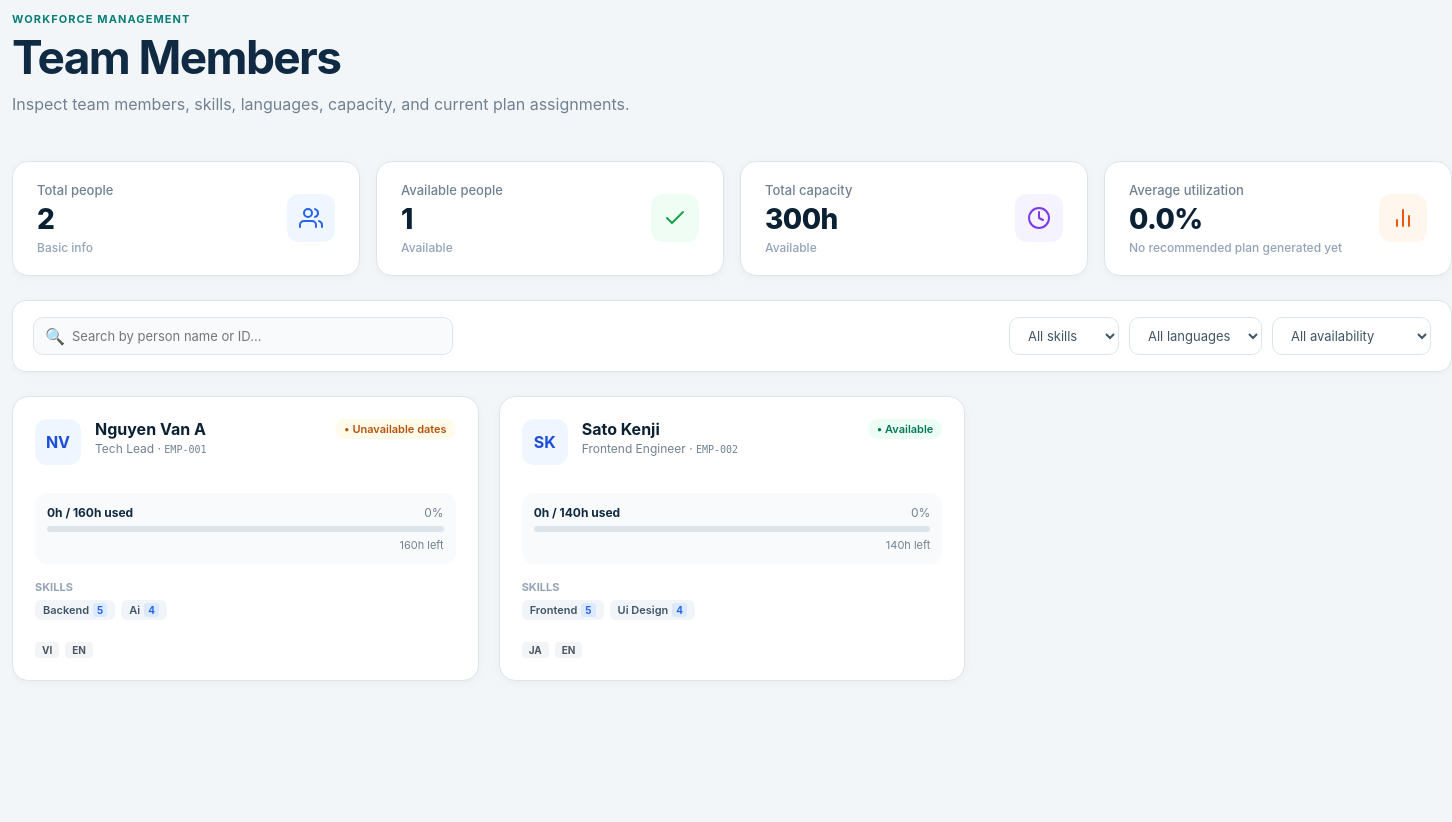
it: EmployeesPage › filters employees by search term
The image size is (1452, 822).
Step 1. Type "Kenji" into the field → [243, 336], box [33,317,453,355]
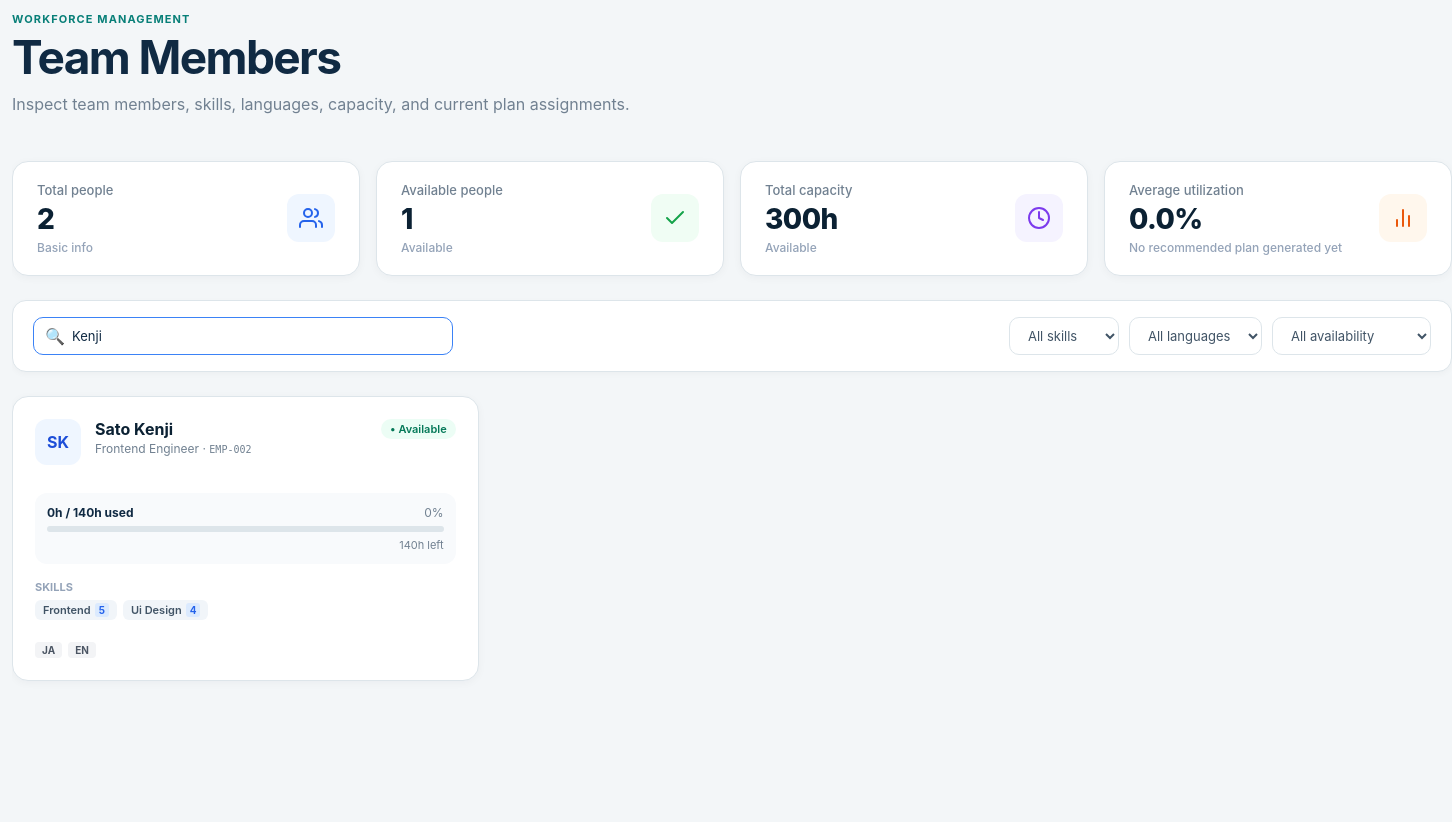
Expected: the heading "Sato Kenji" is shown, [95,419,173,439]
Result: the button "Nguyen Van A" is gone
